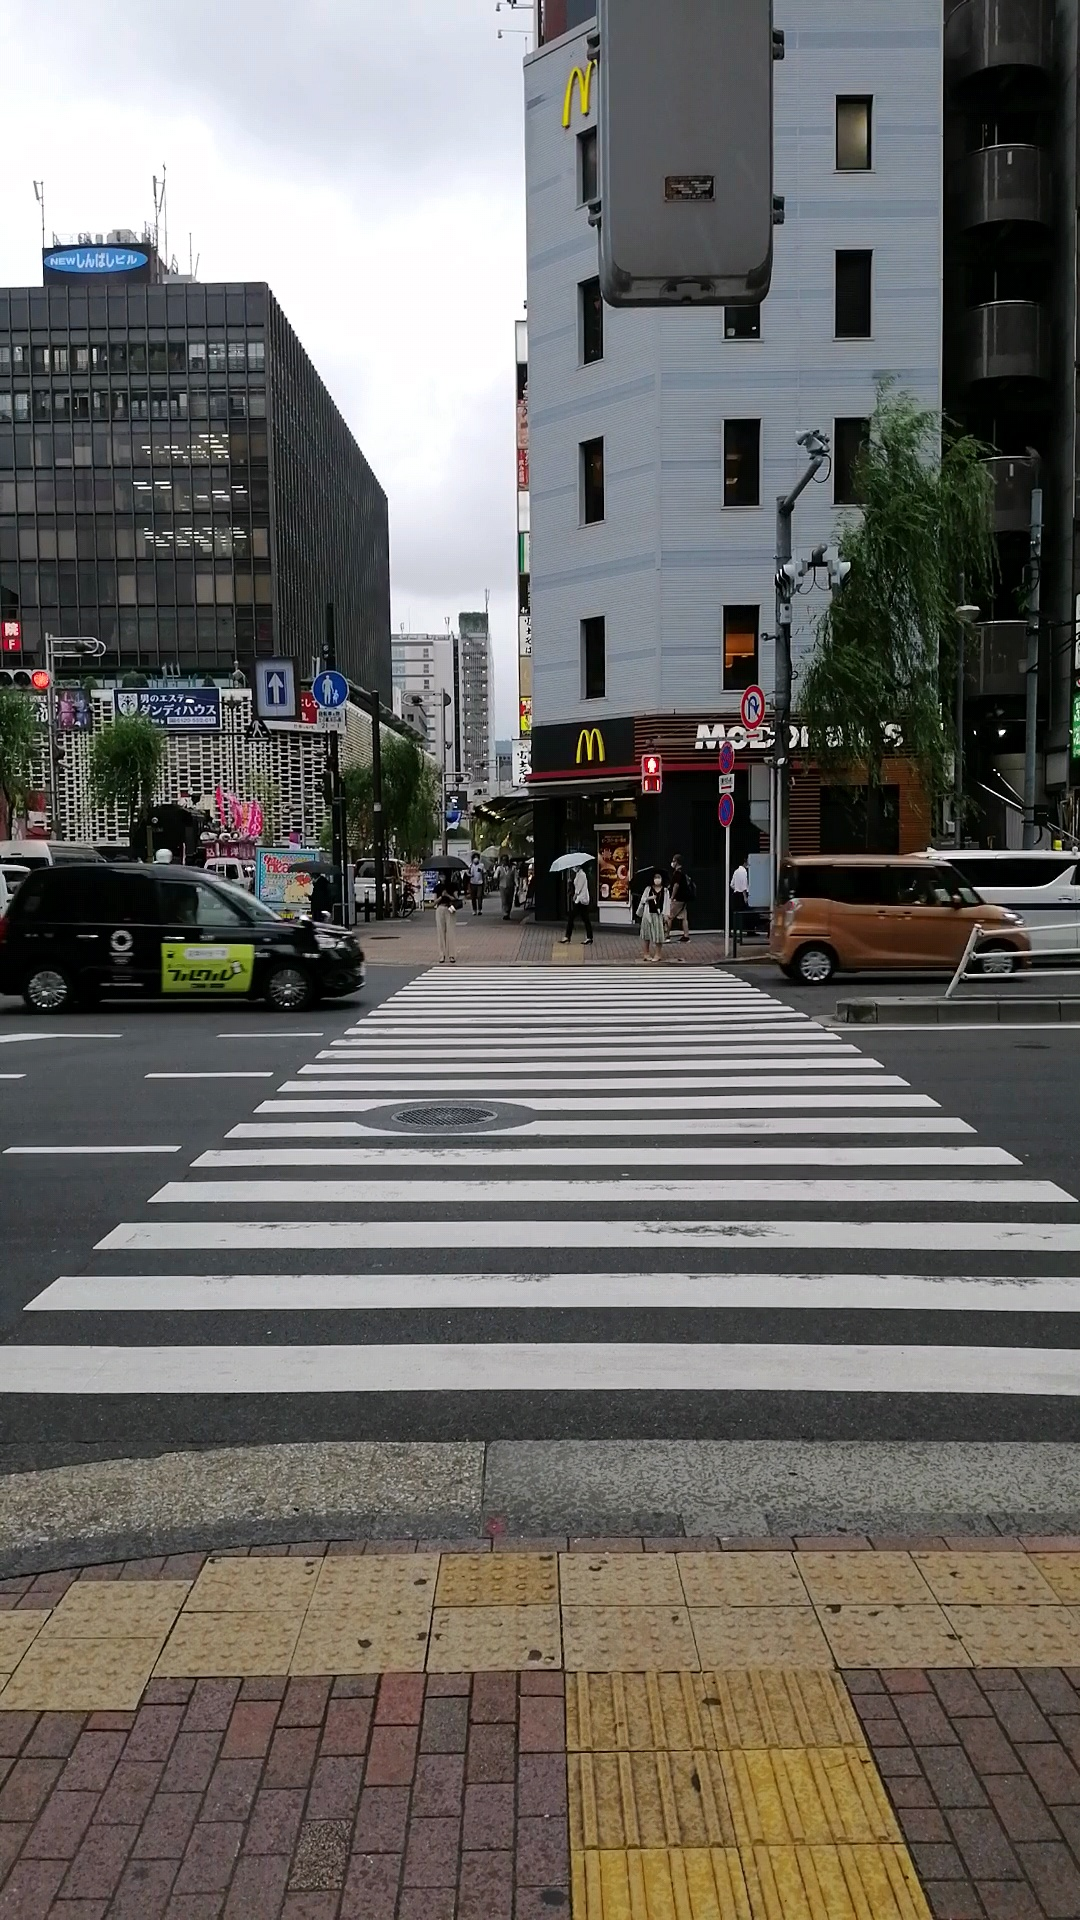red: (640, 753, 663, 794)
